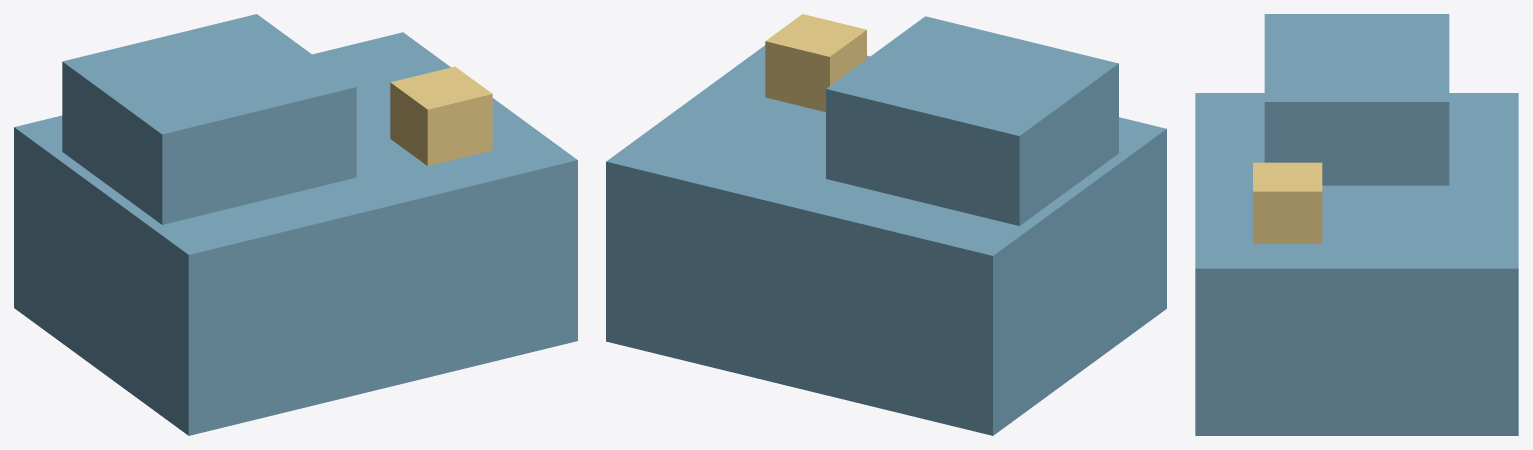
File: mine.gltf
3 views of the same model, side by side, from view 1: azimuth 30°, elevation 25°; view 2: azimuth 150°, elevation 25°; view 3: azimuth 270°, elevation 25° (orthographic). The views are drawn at different scales.
Size of the model in its own units: 1.8 by 1.2 by 1.4.
